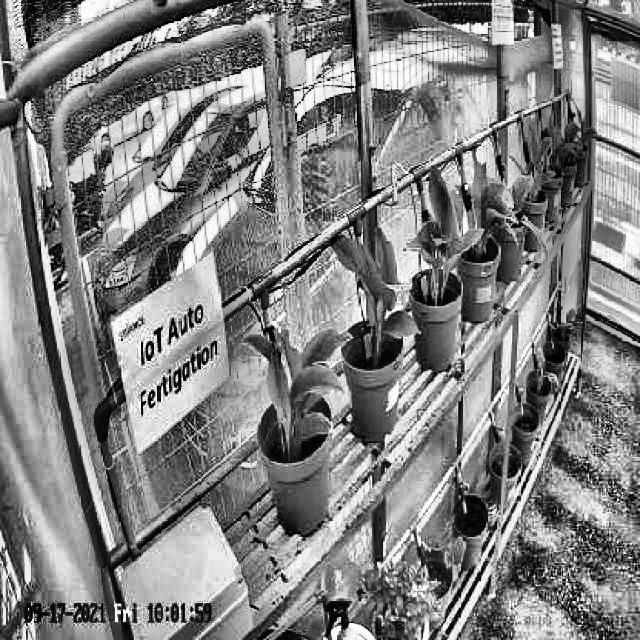plants: (243, 328, 354, 446), (328, 226, 417, 359), (408, 167, 481, 295), (472, 150, 520, 255), (524, 126, 556, 200)
